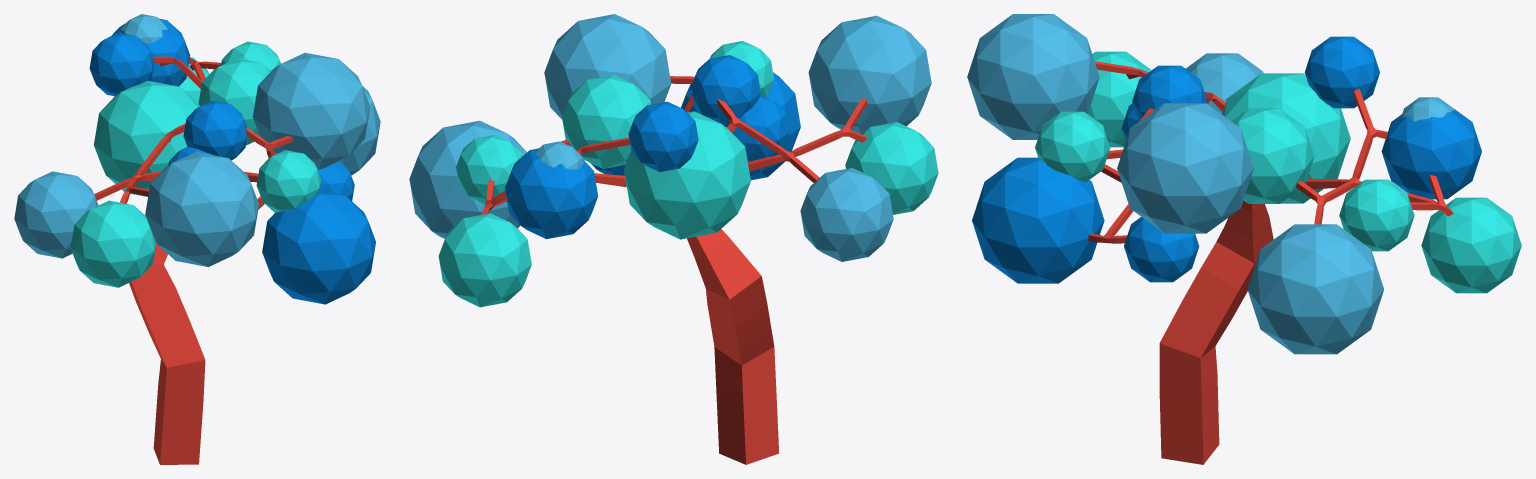
File: LowPolyBlueOak1 1.fbx
3 renders of one model, left to right at view 1: azimuth 30°, elevation 25°; view 2: azimuth 150°, elevation 25°; view 3: azimuth 270°, elevation 25°, orthographic. The views are drawn at different scales.
Visible parts, largest first — view 1: Cube, Icosphere, Icosphere.015, Icosphere.001, Icosphere.014, Icosphere.011, Icosphere.010, Icosphere.005, Icosphere.016, Icosphere.003, Icosphere.012, Icosphere.008 (+5 smaller); view 2: Cube, Icosphere, Icosphere.014, Icosphere.015, Icosphere.009, Icosphere.010, Icosphere.013, Icosphere.008, Icosphere.011, Icosphere.012, Icosphere.005, Icosphere.003 (+5 smaller); view 3: Cube, Icosphere.013, Icosphere.015, Icosphere.001, Icosphere, Icosphere.009, Icosphere.008, Icosphere.014, Icosphere.012, Icosphere.006, Icosphere.005, Icosphere.016 (+5 smaller).
Boxes of the visible parts, x1,y1,x2,y2 form: Cube: (94, 56, 292, 464); Icosphere: (145, 152, 258, 266); Icosphere.015: (252, 52, 370, 169); Icosphere.001: (262, 191, 375, 304); Icosphere.014: (94, 81, 199, 196); Icosphere.011: (70, 200, 156, 287); Icosphere.010: (14, 171, 98, 258); Icosphere.005: (89, 33, 154, 96); Icosphere.016: (256, 150, 321, 212); Icosphere.003: (183, 100, 247, 160); Icosphere.012: (198, 58, 270, 145); Icosphere.008: (111, 18, 190, 86); Cube: (481, 76, 867, 464); Icosphere: (808, 15, 931, 134); Icosphere.014: (624, 111, 750, 239); Icosphere.015: (544, 14, 671, 119); Icosphere.009: (438, 213, 531, 307); Icosphere.010: (800, 168, 893, 261); Icosphere.013: (409, 120, 526, 238); Icosphere.008: (505, 148, 598, 239); Icosphere.011: (845, 122, 938, 214); Icosphere.012: (562, 75, 651, 168); Icosphere.005: (628, 101, 698, 172); Icosphere.003: (691, 55, 760, 125); Cube: (1088, 61, 1453, 464); Icosphere.013: (1247, 224, 1384, 354); Icosphere.015: (1117, 103, 1253, 233); Icosphere.001: (972, 157, 1104, 283); Icosphere: (967, 14, 1099, 139); Icosphere.009: (1421, 197, 1521, 293); Icosphere.008: (1381, 108, 1481, 199); Icosphere.014: (1222, 73, 1350, 203); Icosphere.012: (1231, 108, 1314, 203); Icosphere.006: (1339, 179, 1414, 251); Icosphere.005: (1304, 36, 1379, 108); Icosphere.016: (1035, 111, 1110, 182).
Bounding box in the file's own units: 775 × 701 × 836.
